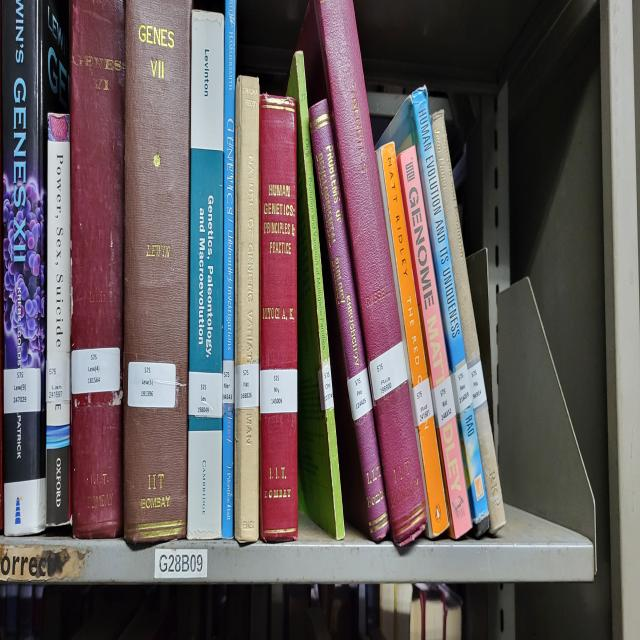Book: (299, 0, 426, 547), (1, 0, 69, 536), (124, 0, 191, 544), (309, 100, 389, 541), (412, 87, 489, 528), (432, 114, 505, 533), (70, 0, 125, 538), (398, 141, 472, 538), (376, 141, 449, 538), (288, 51, 345, 538), (188, 11, 224, 538), (260, 95, 298, 541), (234, 76, 260, 544), (46, 114, 71, 525), (221, 0, 236, 538)
Label: (71, 346, 120, 395), (369, 341, 408, 400), (128, 363, 176, 409), (260, 368, 298, 414), (4, 368, 41, 414), (189, 371, 222, 417), (348, 368, 372, 422), (431, 376, 456, 427), (46, 352, 70, 403), (410, 379, 434, 427), (451, 360, 472, 414), (235, 363, 259, 409), (468, 360, 486, 409), (318, 363, 334, 411), (222, 360, 234, 403)
